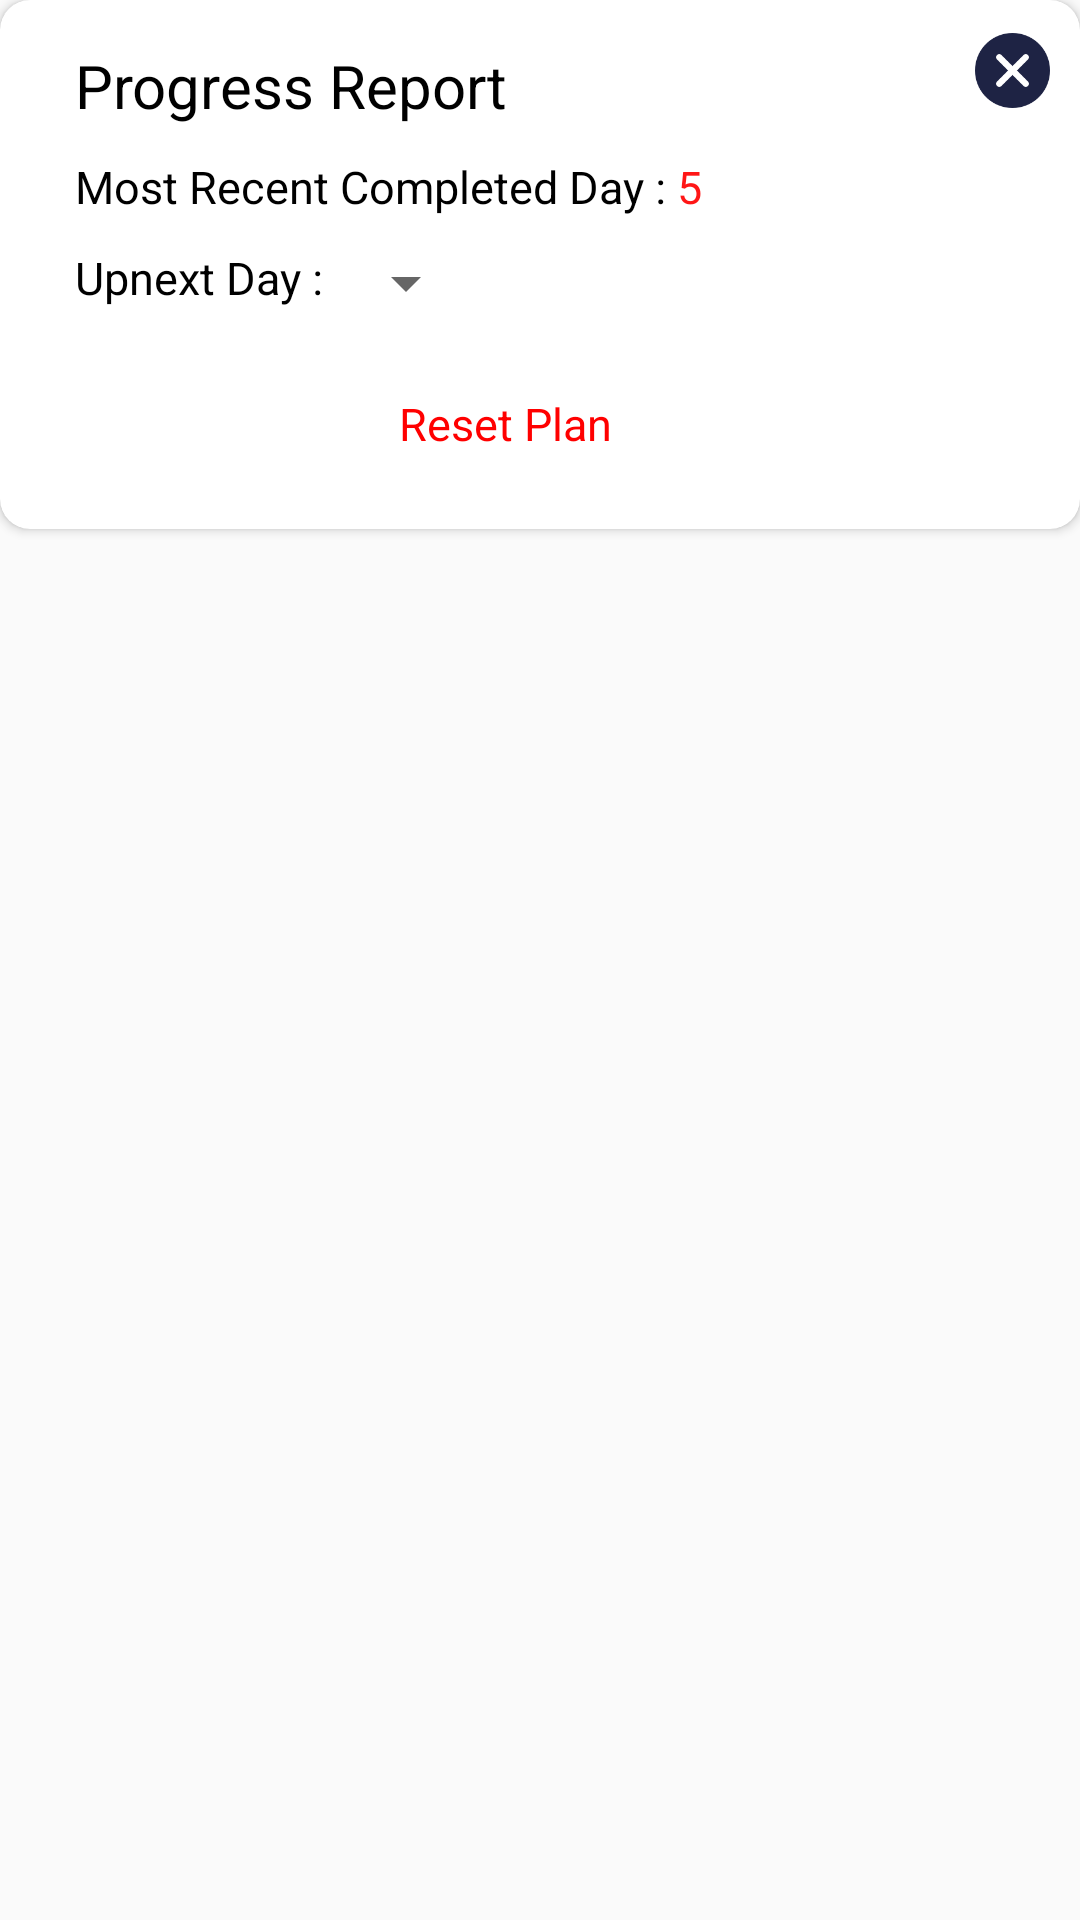

Icons on this 1080px x 1920px Android screen, each with its box as (x1, y1, x2, y2):
close: (975, 33, 1050, 108)
